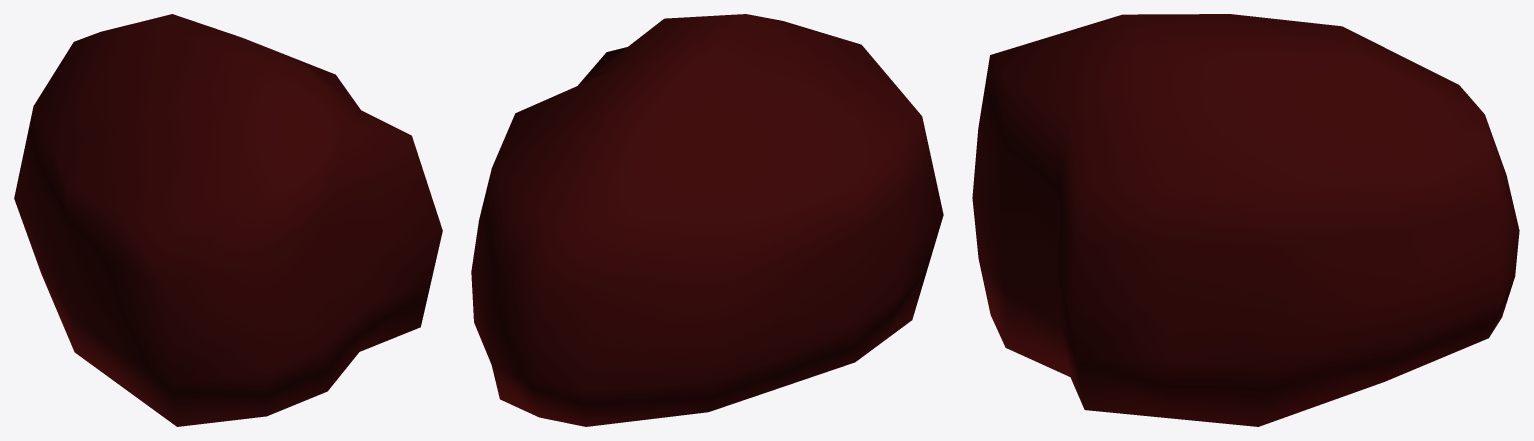
Rendered from geology-pebbles-dirtchunk_v7.fbx.
3 renders of one model, left to right at view 1: azimuth 30°, elevation 25°; view 2: azimuth 150°, elevation 25°; view 3: azimuth 270°, elevation 25°, orthographic. The views are drawn at different scales.
Visible parts, largest first — view 1: DirtChunk_v7; view 2: DirtChunk_v7; view 3: DirtChunk_v7.
Part boxes in pixels (x1=…): DirtChunk_v7: x1=14, y1=14, x2=442, y2=426; DirtChunk_v7: x1=471, y1=14, x2=943, y2=426; DirtChunk_v7: x1=972, y1=14, x2=1519, y2=426.
Bounding box in the file's own units: 5.92 × 5.42 × 7.94.
